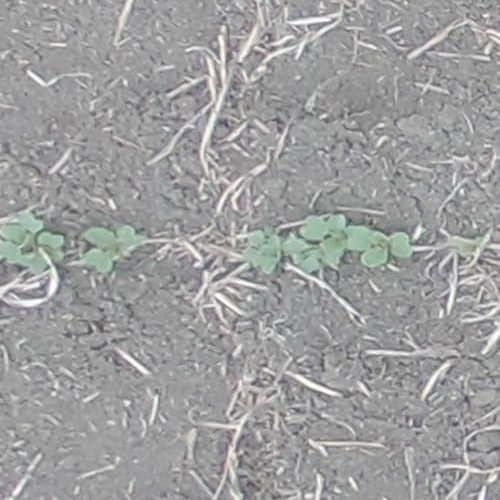clumped: (283, 213, 414, 276), (1, 210, 66, 273)
isolated: (82, 224, 147, 274), (242, 229, 283, 275)
